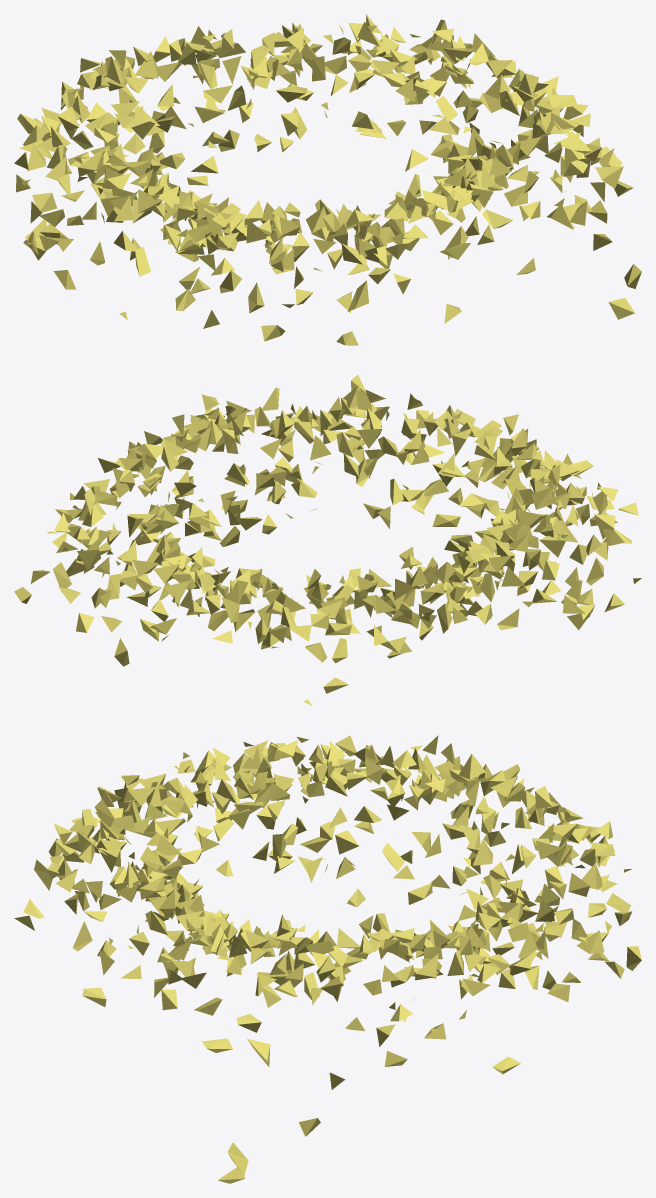
Rendered from nuts2.glb.
The picture shows the model from 3 angles, top to bottom: view 1: azimuth 30°, elevation 25°; view 2: azimuth 150°, elevation 25°; view 3: azimuth 270°, elevation 25°; orthographic projection. The views are drawn at different scales.
Visible parts, largest first — view 1: nuts; view 2: nuts; view 3: nuts.
Boxes of the visible parts, left/top/right/bottom form: nuts: left=14, top=14, right=641, bottom=345; nuts: left=14, top=374, right=641, bottom=706; nuts: left=14, top=735, right=641, bottom=1183.
Size of the model in its own units: 0.1483 by 0.0615 by 0.1465.
